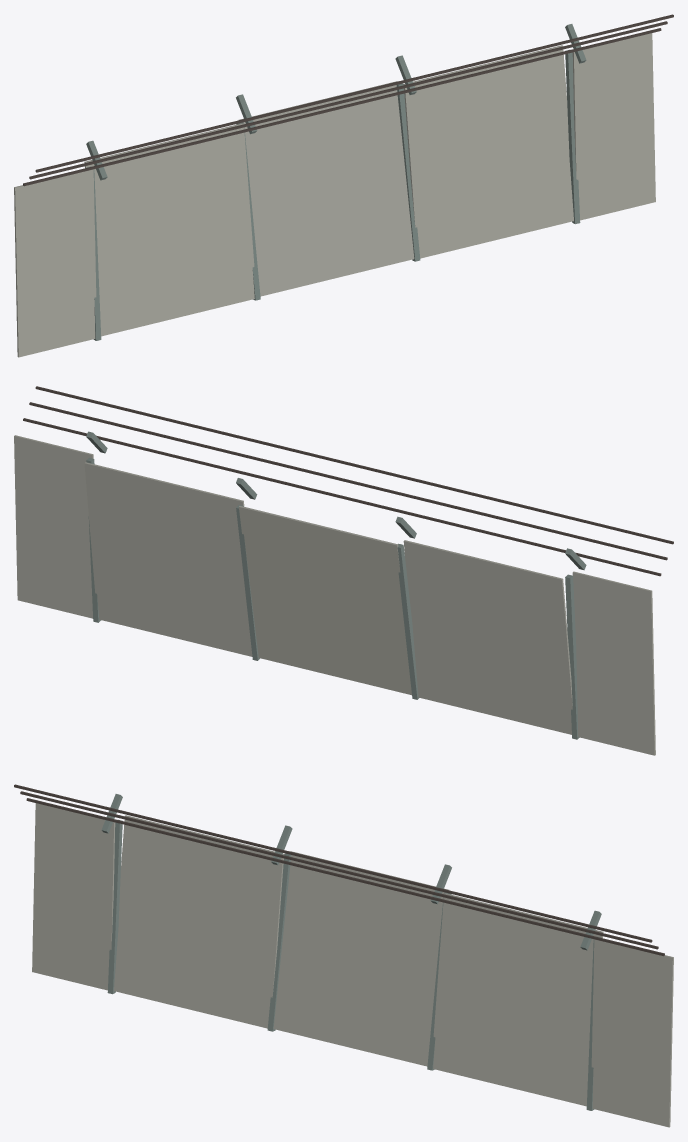
File: SM_VallaBase_v1_LOD0.fbx
The picture shows the model from 3 angles, top to bottom: view 1: azimuth 30°, elevation 25°; view 2: azimuth 150°, elevation 25°; view 3: azimuth 330°, elevation 25°; orthographic projection.
Visible parts, largest first — view 1: SM_valla_base_v1_LOD0; view 2: SM_valla_base_v1_LOD0; view 3: SM_valla_base_v1_LOD0.
Part boxes in pixels (box(x1,y1,x2,y2)): SM_valla_base_v1_LOD0: box(14, 14, 673, 357); SM_valla_base_v1_LOD0: box(14, 386, 673, 755); SM_valla_base_v1_LOD0: box(14, 784, 673, 1127).
Bounding box in the file's own units: 9.98 × 3.02 × 1.01.
